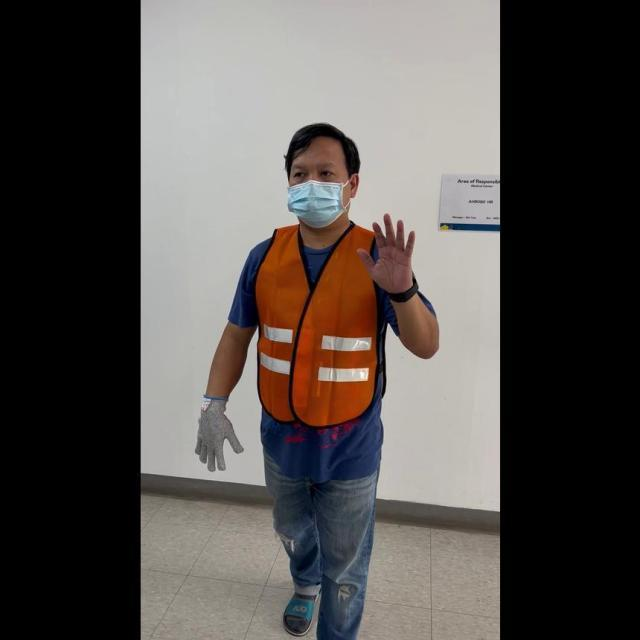bare_hand: (357, 207, 417, 295)
gloved_hand: (191, 394, 243, 473)
